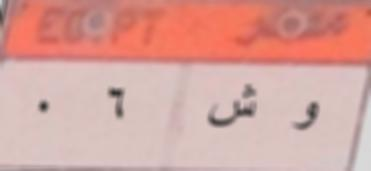0: (25, 92, 68, 124)
6: (97, 83, 139, 128)
sheen: (209, 78, 264, 134)
waw: (285, 93, 324, 136)
